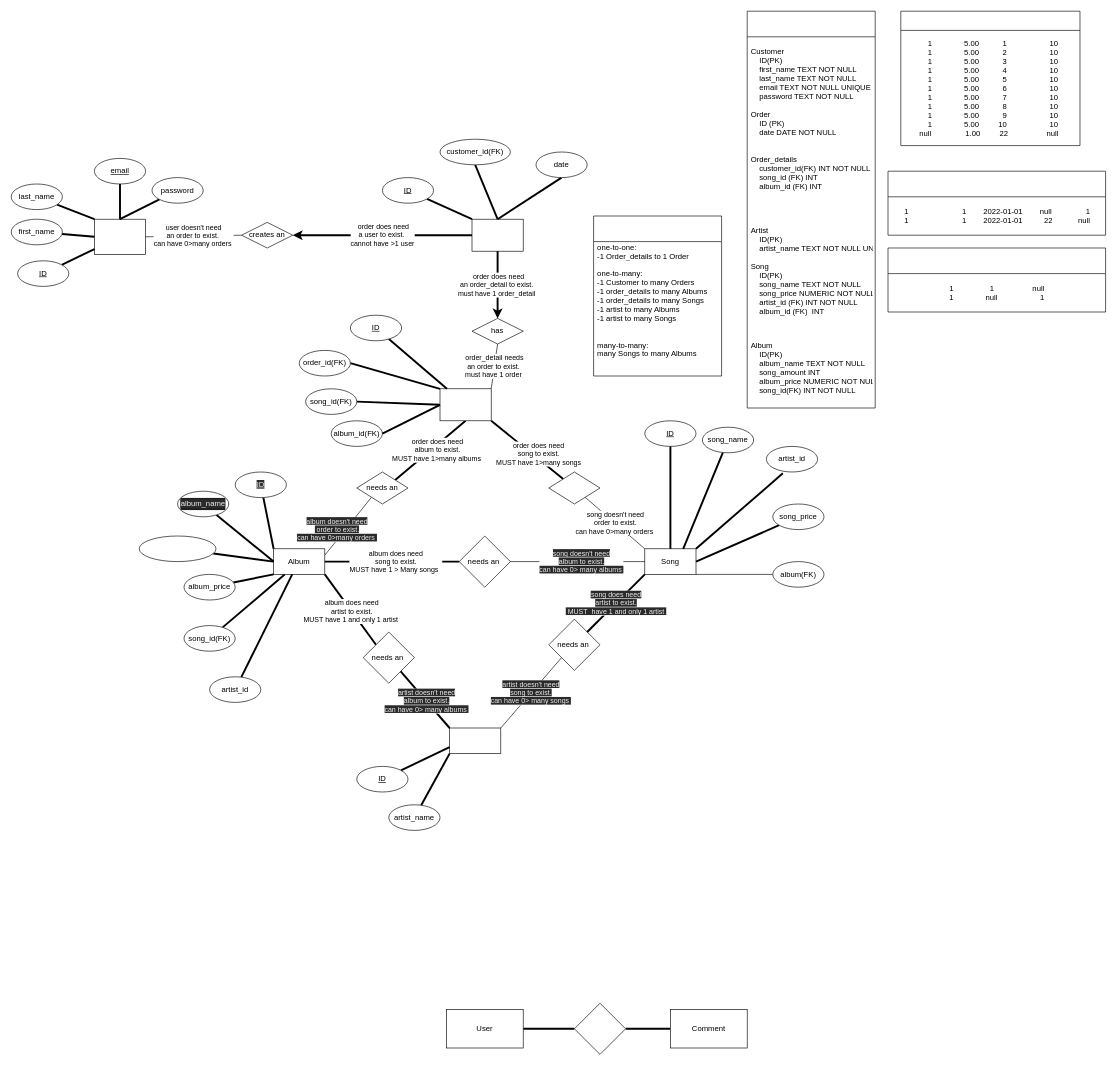
This 1117x1066 diagram has some shape labels left out. Each missing label, with the box of its shape:
ALBUMS album_id price song_id song_amount: (900, 11, 1080, 146)
Artist: (449, 727, 501, 754)
Customer: (94, 219, 146, 254)
Entites: (747, 11, 875, 408)
needs a: (548, 471, 600, 504)
Order: (471, 219, 523, 251)
Order_details: (439, 388, 491, 421)
ORDER_DETAILS order_id song_id album_id: (887, 247, 1106, 312)
ORDERS order_id customer_id date song_id album_id: (887, 171, 1106, 235)
relationship types: (593, 215, 722, 376)
song_amount: (139, 535, 216, 562)
writes: (574, 1003, 626, 1054)
